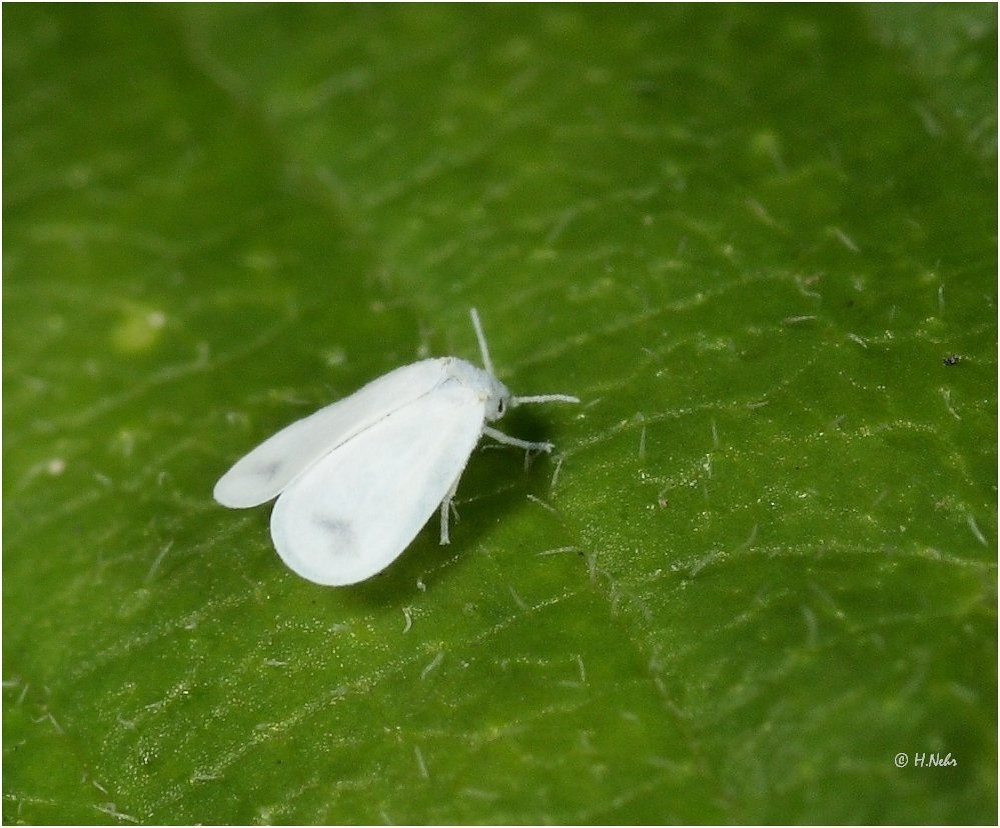Mosca Blanca: (202, 304, 598, 605)
